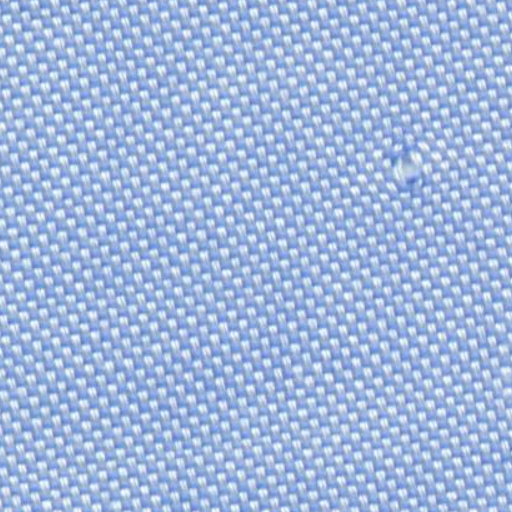PoDong: (376, 126, 449, 200)
